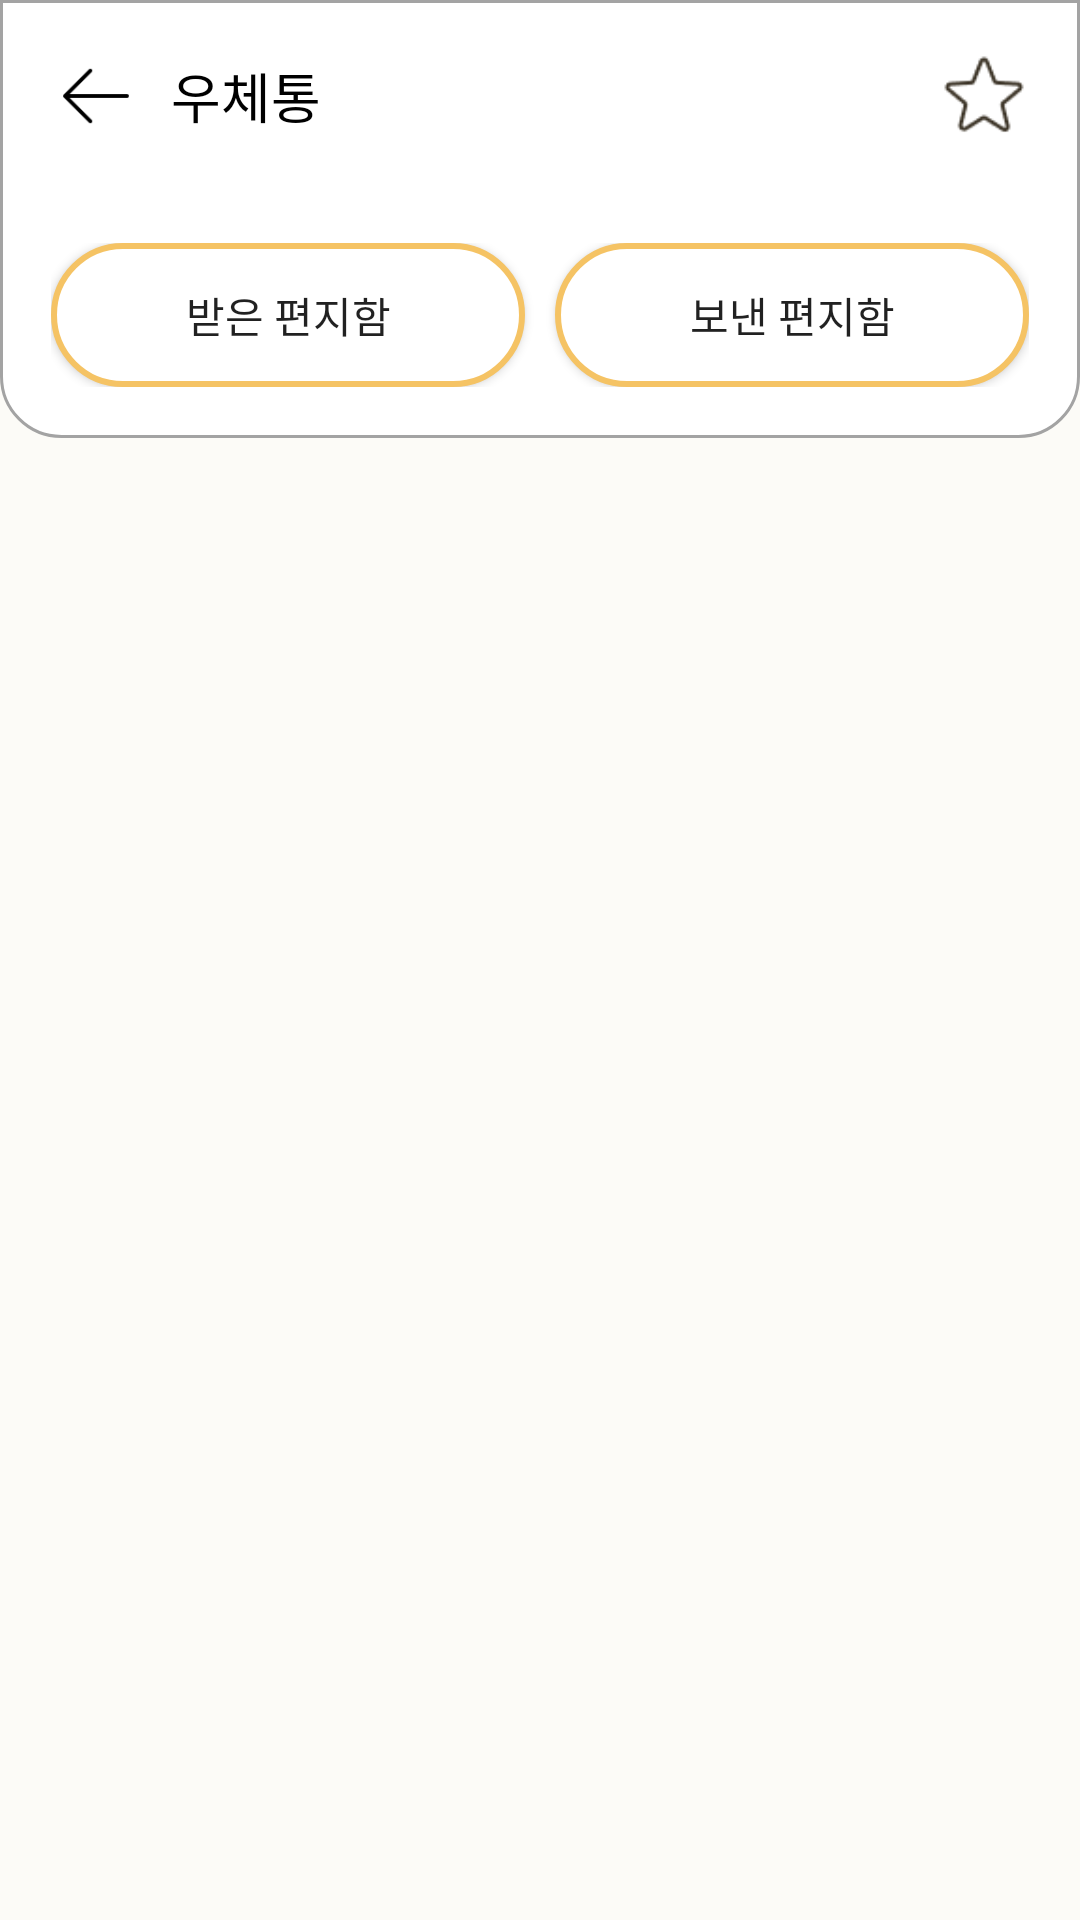

Named icons in this screenshot (1080px x 1920px) and their centers, (x=x, y=y):
back: (x=96, y=96)
star: (x=984, y=94)
